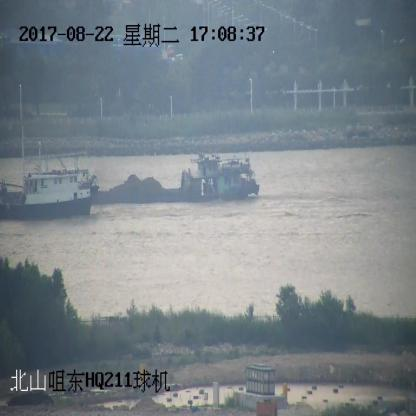Fishing Boat: (1, 146, 96, 220)
